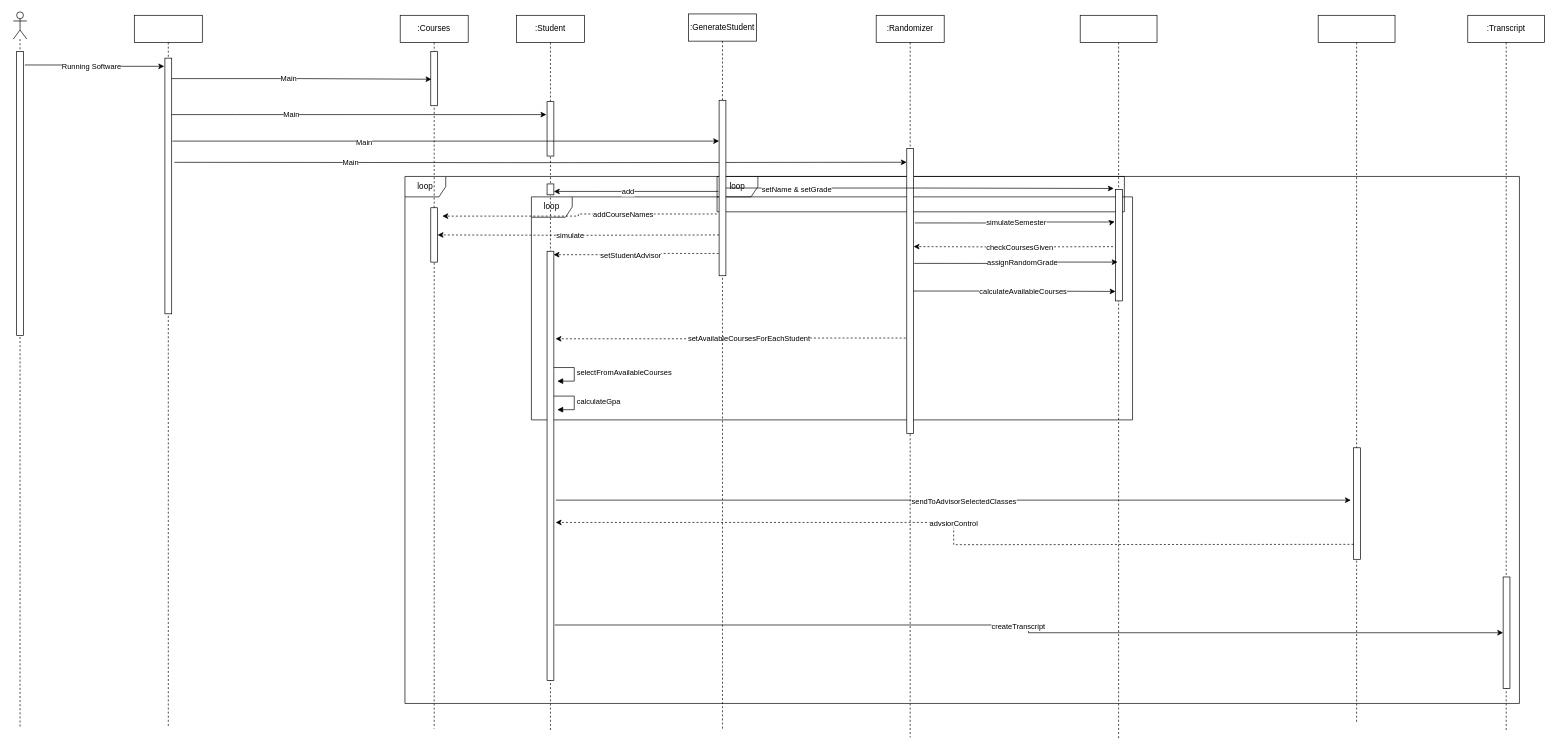
Some shapes in this 1557 by 751 pixel diagram are drawn without their labels. The box of each missing label's shape, as (x1, y1, x2, y2) in pixels:
:Advisor: (1318, 15, 1395, 724)
:CompletedCourses: (1080, 15, 1157, 740)
:Main: (134, 15, 202, 727)
User: (13, 11, 27, 728)
